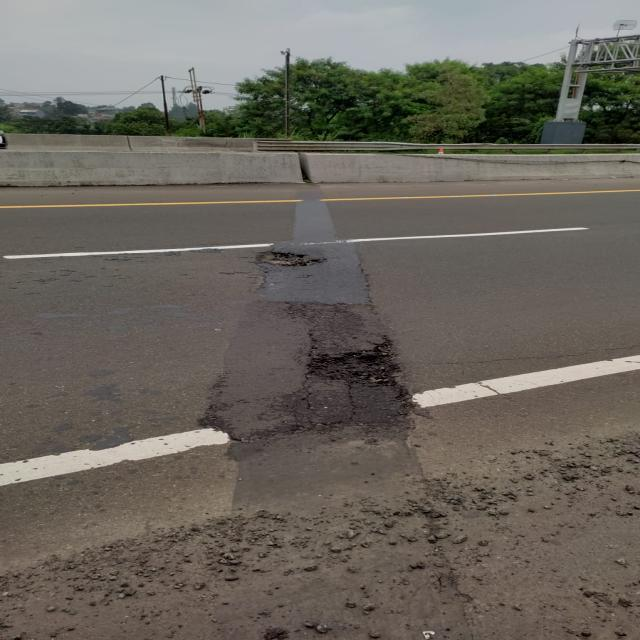Buraco: (302, 332, 406, 390), (254, 249, 330, 269)
